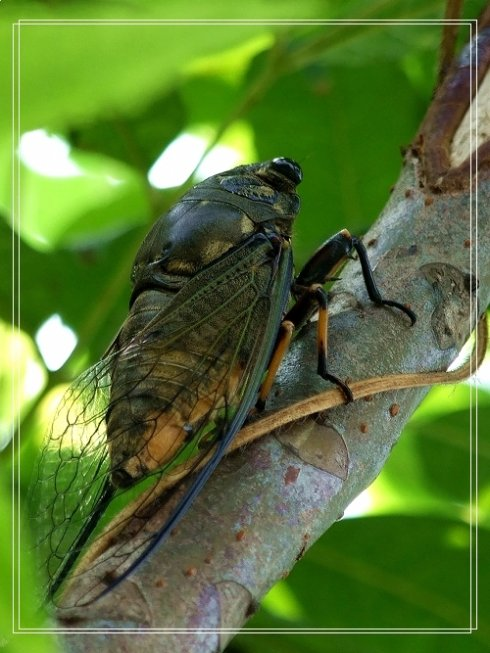chan: (57, 146, 339, 602)
